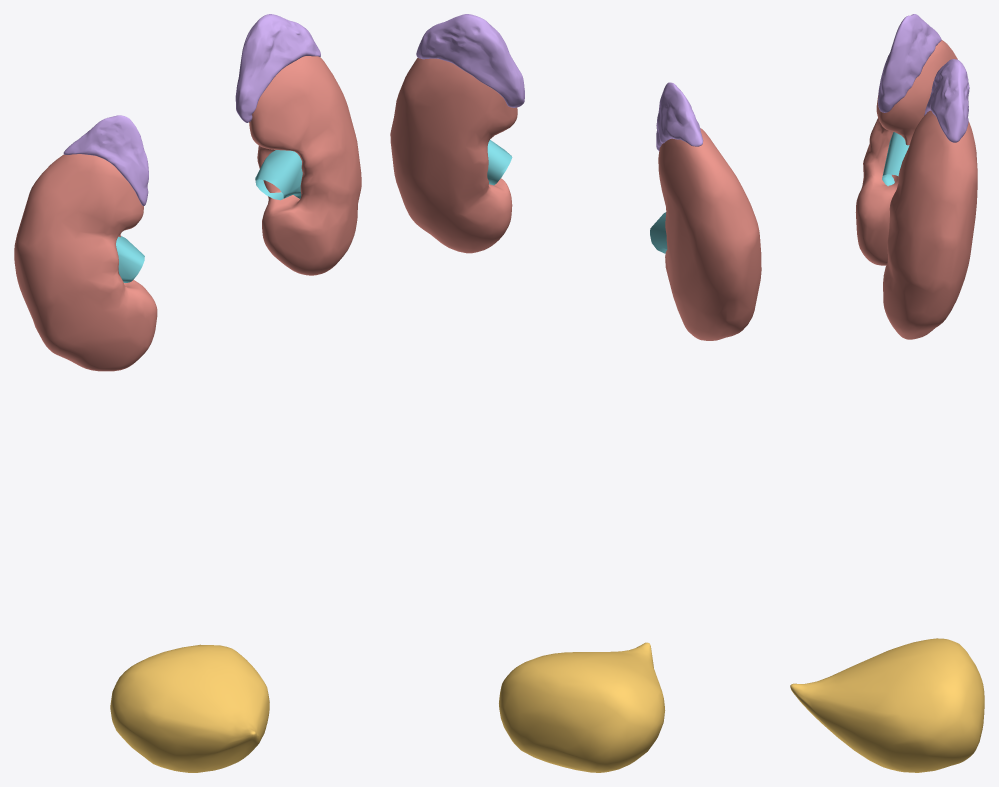
The model's file is kidney.glb.
3 renders of one model, left to right at view 1: azimuth 30°, elevation 25°; view 2: azimuth 150°, elevation 25°; view 3: azimuth 270°, elevation 25°, orthographic. The views are drawn at different scales.
Visible parts, largest first — view 1: Kidney.001, Kidney, Urinary bladder.001, Suprarenal gland, Suprarenal gland.001, Renal pelvis, Renal pelvis.001; view 2: Kidney, Urinary bladder.001, Kidney.001, Suprarenal gland, Suprarenal gland.001, Renal pelvis; view 3: Urinary bladder.001, Kidney, Kidney.001, Suprarenal gland.001, Suprarenal gland, Renal pelvis.001.
Part boxes in pixels (x1,y1,x2,y2): Kidney.001: (14, 154, 157, 371); Kidney: (249, 56, 361, 275); Urinary bladder.001: (110, 644, 269, 772); Suprarenal gland: (235, 14, 320, 122); Suprarenal gland.001: (63, 115, 148, 205); Renal pelvis: (255, 150, 302, 200); Renal pelvis.001: (116, 236, 144, 282); Kidney: (390, 58, 517, 253); Urinary bladder.001: (499, 642, 665, 772); Kidney.001: (658, 128, 761, 340); Suprarenal gland: (416, 14, 524, 107); Suprarenal gland.001: (656, 82, 703, 151); Renal pelvis: (487, 140, 512, 185); Urinary bladder.001: (790, 638, 984, 772); Kidney: (883, 110, 977, 339); Kidney.001: (855, 40, 957, 265); Suprarenal gland.001: (878, 14, 941, 112); Suprarenal gland: (924, 59, 969, 142); Renal pelvis.001: (882, 132, 909, 186).
Bounding box in the file's own units: 1.31 × 2.6 × 0.6119.
